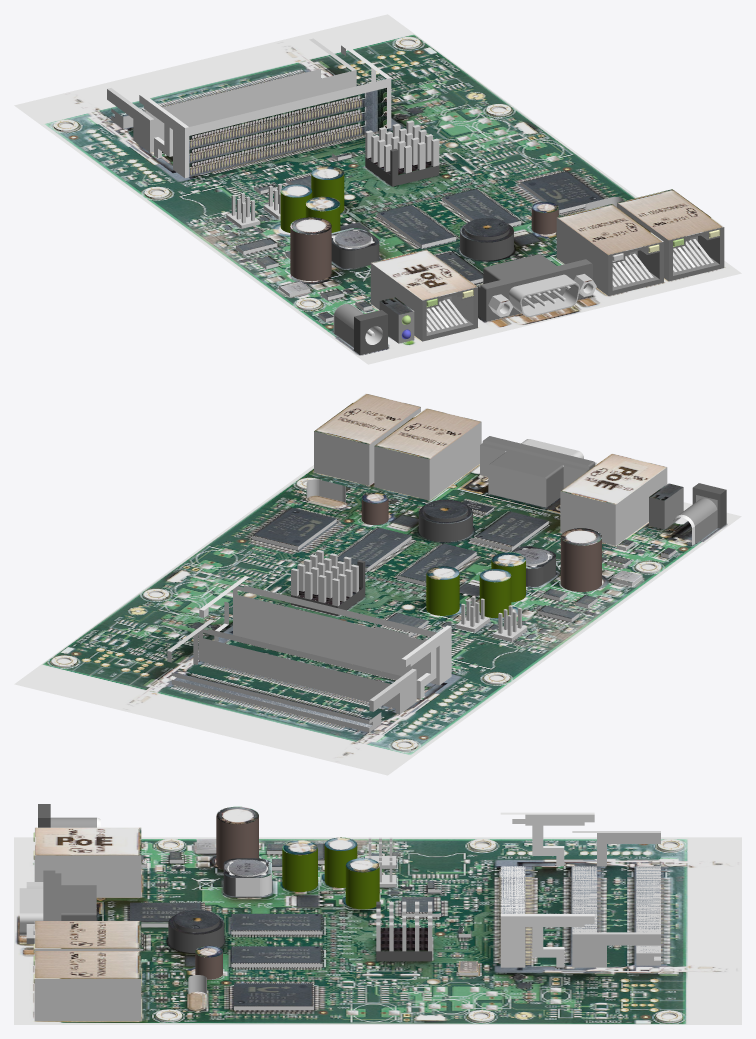
File: router1.glb
The picture shows the model from 3 angles, top to bottom: view 1: azimuth 30°, elevation 25°; view 2: azimuth 150°, elevation 25°; view 3: azimuth 270°, elevation 25°; orthographic projection. The views are drawn at different scales.
Visible parts, largest first — view 1: Mesh126 Model, Mesh111 Model, Mesh15 Componente_1_1 Model, Mesh125 Model, Mesh40 Componente_1_2 Model, Mesh94 Model, Mesh112 Model, Mesh118 Model, Mesh98 Model, Mesh116 Model, Mesh101 Model, Mesh113 Model (+10 smaller); view 2: Mesh126 Model, Mesh111 Model, Mesh112 Model, Mesh15 Componente_1_1 Model, Mesh125 Model, Mesh94 Model, Mesh40 Componente_1_2 Model, Mesh118 Model, Mesh113 Model, Mesh101 Model, Mesh116 Model, Mesh98 Model (+11 smaller); view 3: Mesh126 Model, Mesh40 Componente_1_2 Model, Mesh125 Model, Mesh111 Model, Mesh112 Model, Mesh15 Componente_1_1 Model, Mesh94 Model, Mesh118 Model, Mesh113 Model, Mesh101 Model, Mesh116 Model, Mesh81 Componente_6_1 Model (+10 smaller).
Part boxes in pixels (x1,y1,x2,y2): Mesh126 Model: (14,14,741,364); Mesh111 Model: (139,44,391,178); Mesh15 Componente_1_1 Model: (556,204,663,296); Mesh125 Model: (370,249,477,341); Mesh40 Componente_1_2 Model: (617,189,724,281); Mesh94 Model: (477,254,592,321); Mesh112 Model: (107,38,356,152); Mesh118 Model: (290,217,331,281); Mesh98 Model: (333,304,387,355); Mesh116 Model: (460,218,513,260); Mesh101 Model: (520,170,604,213); Mesh113 Model: (111,69,320,128); Mesh126 Model: (14,464,741,775); Mesh111 Model: (199,576,451,698); Mesh112 Model: (167,619,416,714); Mesh15 Componente_1_1 Model: (374,408,481,500); Mesh125 Model: (560,453,667,545); Mesh94 Model: (480,436,595,507); Mesh40 Componente_1_2 Model: (314,393,420,485); Mesh118 Model: (560,528,601,591); Mesh113 Model: (171,672,381,732); Mesh101 Model: (252,507,336,550); Mesh116 Model: (418,499,472,541); Mesh98 Model: (673,483,726,545); Mesh126 Model: (14,837,741,1024); Mesh40 Componente_1_2 Model: (34,951,141,1020); Mesh125 Model: (34,827,141,897); Mesh111 Model: (500,812,594,967); Mesh112 Model: (572,831,660,967); Mesh15 Componente_1_1 Model: (34,921,141,950); Mesh94 Model: (19,870,96,935); Mesh118 Model: (216,806,258,869); Mesh113 Model: (636,866,660,965); Mesh101 Model: (234,983,313,1009); Mesh116 Model: (168,909,224,952); Mesh81 Componente_6_1 Model: (231,946,322,967).
Size of the model in its own units: 1146 by 147 by 1880.
Materials: 14 (2 with a texture image).
